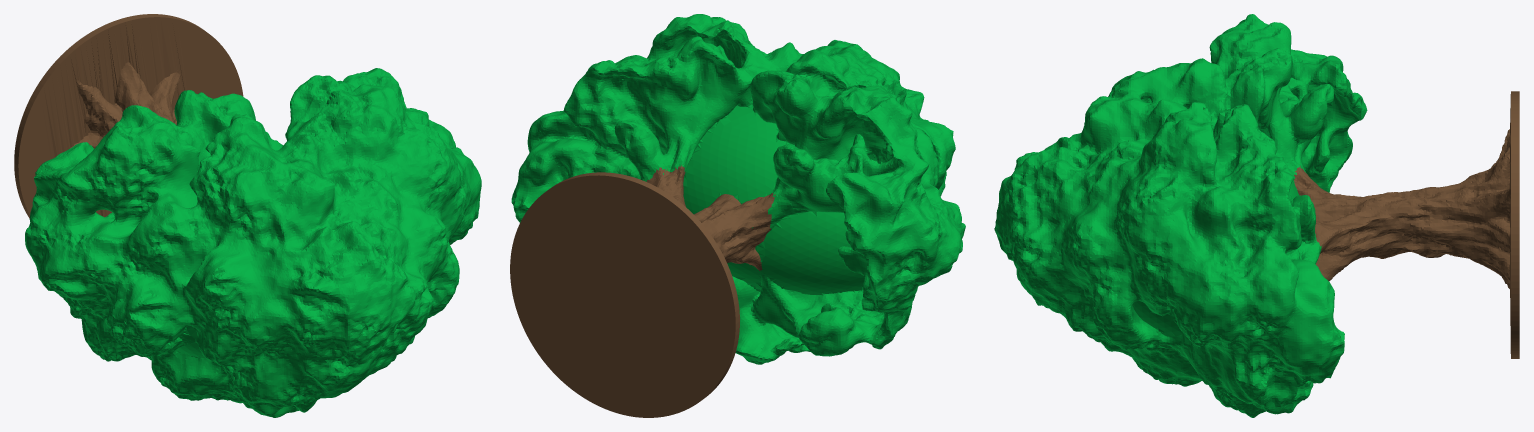
The model's file is arvore-koks.glb.
3 renders of one model, left to right at view 1: azimuth 30°, elevation 25°; view 2: azimuth 150°, elevation 25°; view 3: azimuth 270°, elevation 25°, orthographic. The views are drawn at different scales.
Visible parts, largest first — view 1: arvore-koks.glb; view 2: arvore-koks.glb; view 3: arvore-koks.glb.
Part boxes in pixels (x1,y1,x2,y2): arvore-koks.glb: (14,14,481,417); arvore-koks.glb: (510,14,965,417); arvore-koks.glb: (994,14,1519,417).
Bounding box in the file's own units: 108 × 71.5 × 114.
